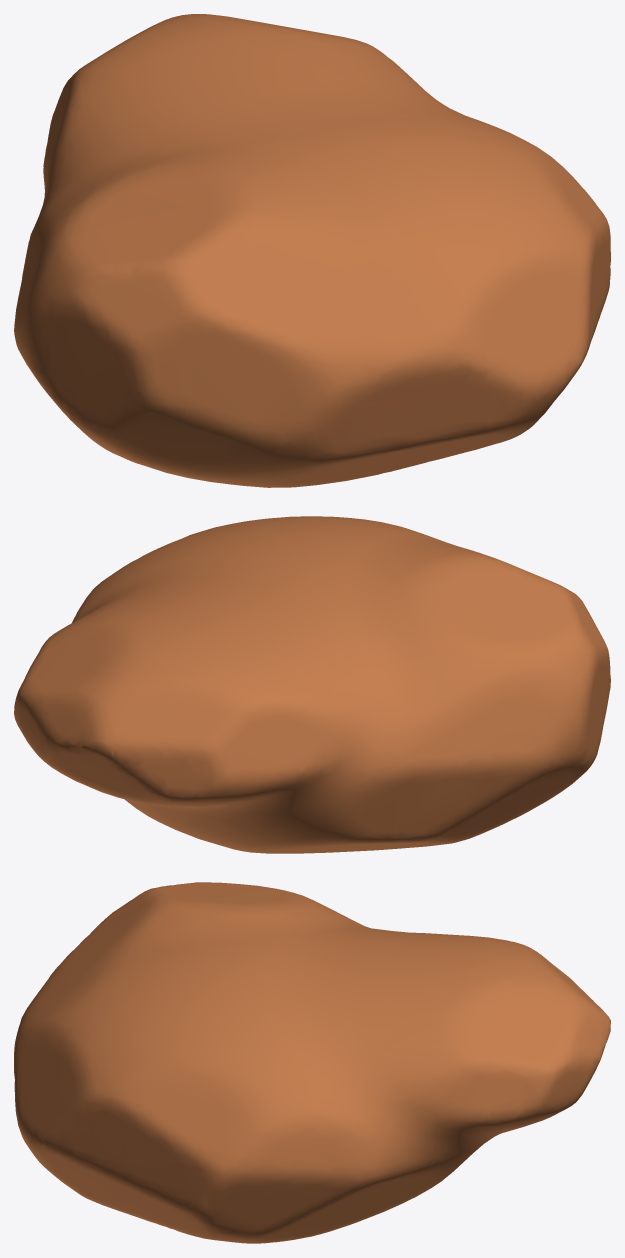
File: overlook-rock.glb
The picture shows the model from 3 angles, top to bottom: view 1: azimuth 30°, elevation 25°; view 2: azimuth 150°, elevation 25°; view 3: azimuth 270°, elevation 25°; orthographic projection. The views are drawn at different scales.
Parts seen in each view (by area): view 1: rock; view 2: rock; view 3: rock.
Boxes of the visible parts, x1,y1,x2,y2 form: rock: [14, 14, 610, 487]; rock: [14, 516, 610, 853]; rock: [14, 882, 610, 1243].
Size of the model in its own units: 4.9 by 2.49 by 5.37.
